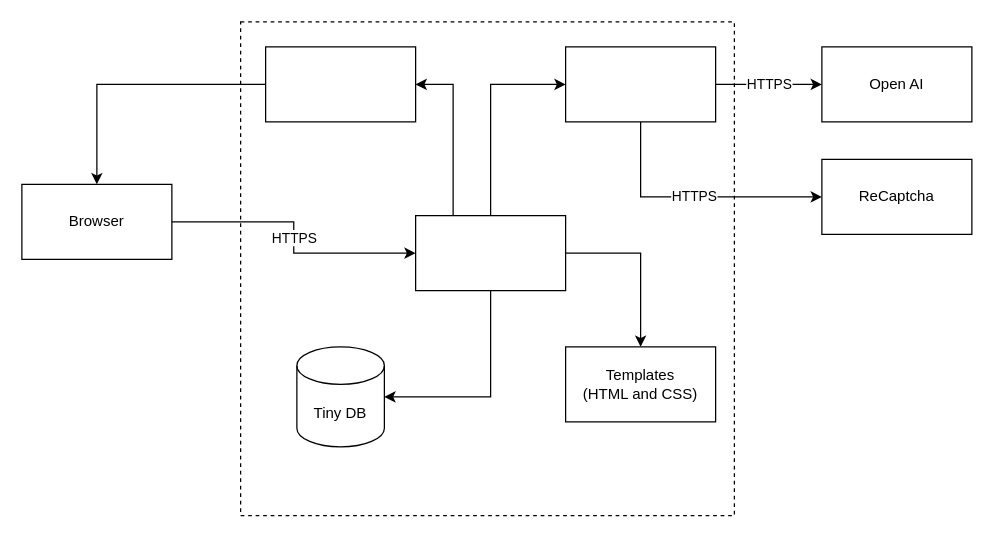
Image size: 994x538. Some labels were removed from this diagram. Here are the shapes that lost their labels. From the top down, the box of each, then its label:
(264, 46, 416, 122): Graffiti Handler (js and py)
(564, 46, 716, 122): API Handler
(414, 214, 566, 291): Flask
